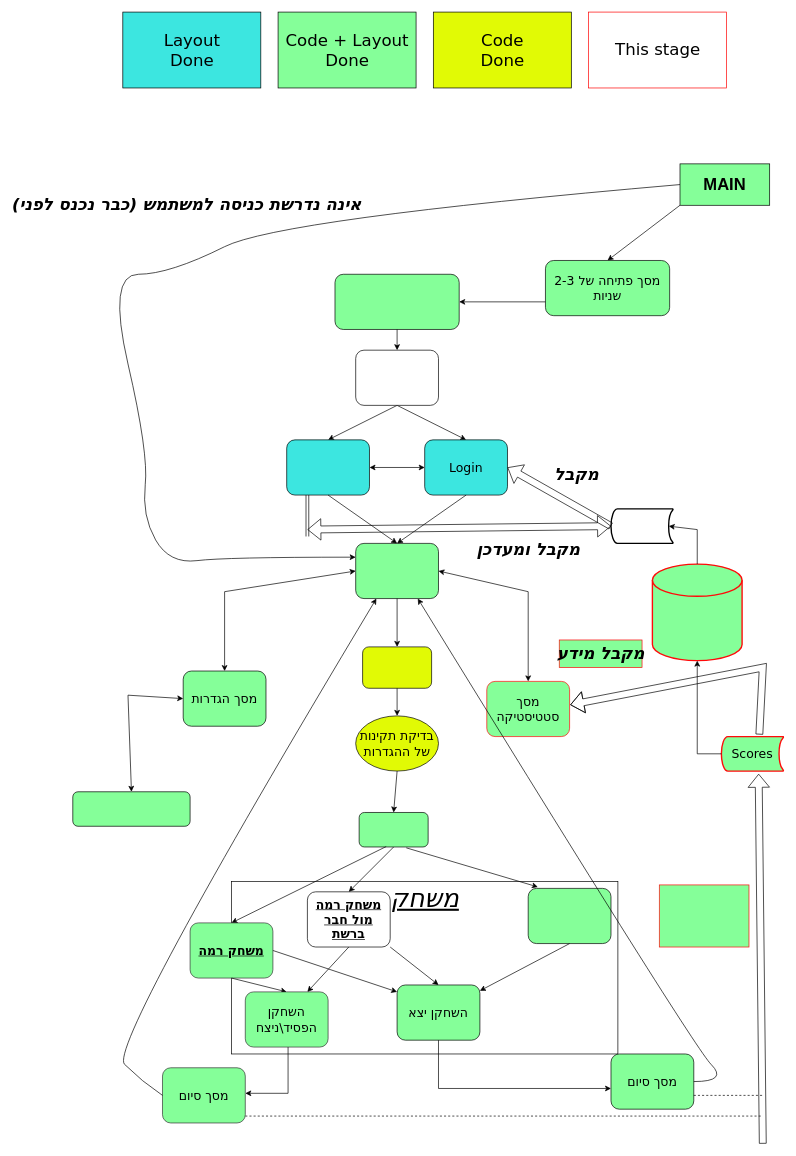
Image size: 796x1156. Some labels were removed from this diagram. The shapes that lost their labels are listed below. From the top down, each one's centre as x and y in pixels, then its label:
At point 396,301: "מסך ראשי (אינו זמין)".
At point 396,377: "כניסה למשתמש".
At point 327,467: "Register".
At point 641,526: "Players".
At point 396,571: "מסך ראשי".
At point 696,612: "Firebase DB".
At point 397,667: "לשחק".
At point 131,808: "בחירה והגדרת שיר רקע".
At point 393,829: "בחירת סוג משחק".
At point 569,916: "משחק אינסופי".
At point 704,915: "עדכון נתונים".
